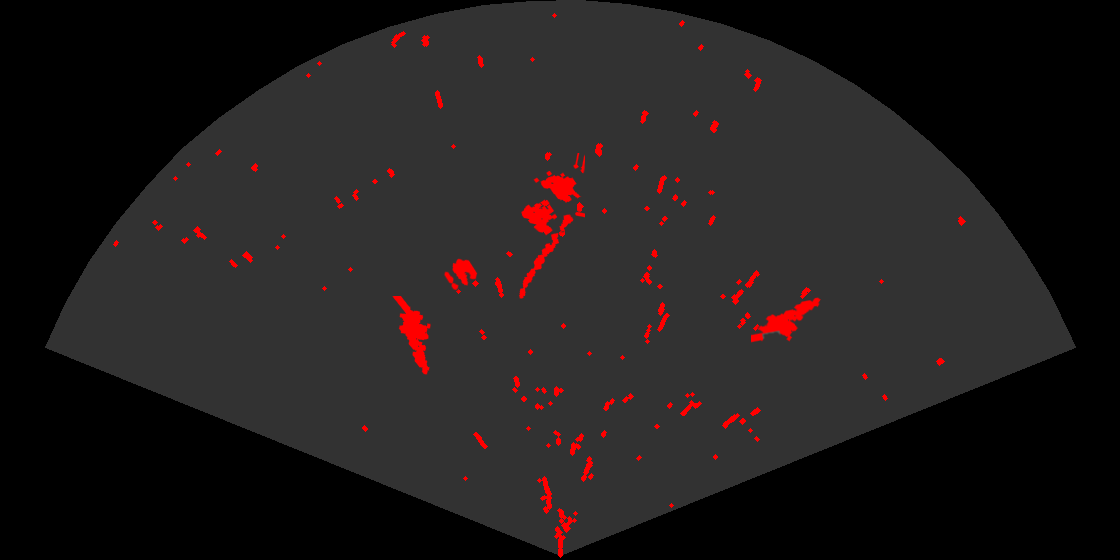ball: (442, 257, 479, 292)
cage: (520, 153, 585, 237)
chain: (517, 213, 575, 300)
frogman: (751, 296, 822, 344), (391, 296, 432, 376)
